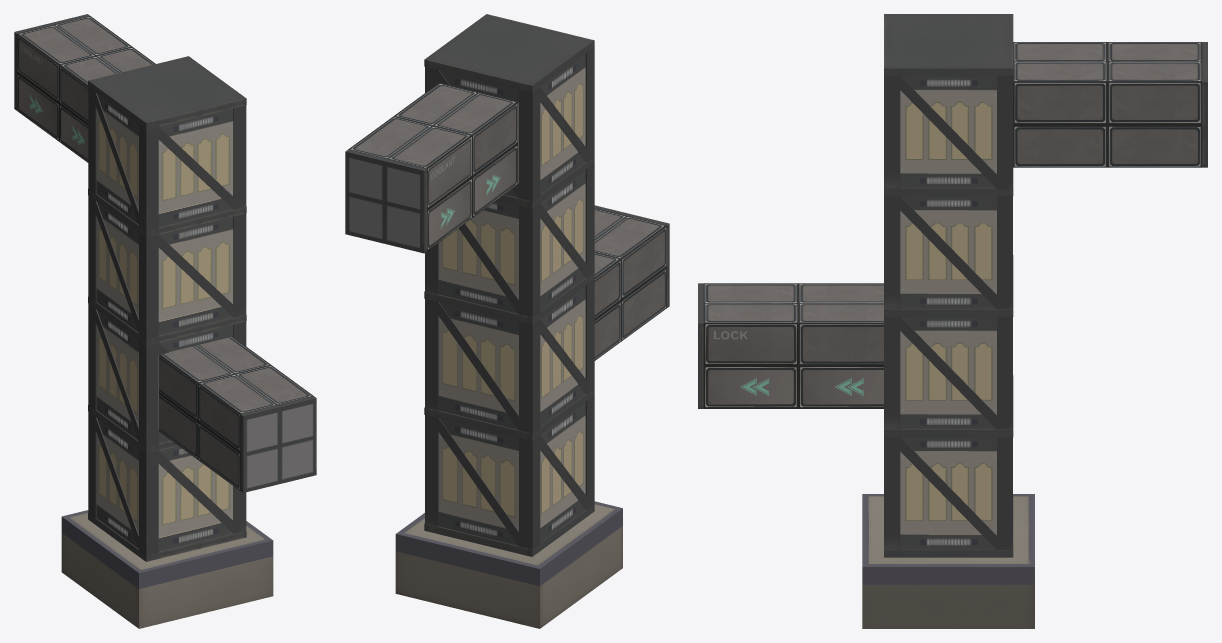
The model's file is Sci-Fi_Prefab_Var9.fbx.
The picture shows the model from 3 angles, left to right: view 1: azimuth 30°, elevation 25°; view 2: azimuth 150°, elevation 25°; view 3: azimuth 270°, elevation 25°; orthographic projection. The views are drawn at different scales.
Visible parts, largest first — view 1: ProjectRG_Environment_Sci-Fi_BaseFoundation_Small.003, ProjectRG_Environment_Sci-Fi_TowerTopBlockPiece_Var1.007, ProjectRG_Environment_Sci-Fi_TowerTopBlockPiece_Var1.006, ProjectRG_Environment_Sci-Fi_TowerTopBlockPiece_Var1.004, ProjectRG_Environment_Sci-Fi_TowerPanel_Var3_B.019, ProjectRG_Environment_Sci-Fi_TowerPanel_Var0_A.006, ProjectRG_Environment_Sci-Fi_FrameTower.019, ProjectRG_Environment_Sci-Fi_FrameTower.020, ProjectRG_Environment_Sci-Fi_FrameTower.017, ProjectRG_Environment_Sci-Fi_TowerTopBlockPiece_Var1.005, ProjectRG_Environment_Sci-Fi_FrameTower.018, ProjectRG_Environment_Sci-Fi_ModBlock_Long.036 (+16 smaller); view 2: ProjectRG_Environment_Sci-Fi_BaseFoundation_Small.003, ProjectRG_Environment_Sci-Fi_TowerTopBlockPiece_Var1.004, ProjectRG_Environment_Sci-Fi_TowerTopBlockPiece_Var1.005, ProjectRG_Environment_Sci-Fi_TowerTopBlockPiece_Var1.006, ProjectRG_Environment_Sci-Fi_TowerPanel_Var3_B.019, ProjectRG_Environment_Sci-Fi_TowerPanel_Var0_A.007, ProjectRG_Environment_Sci-Fi_FrameTower.017, ProjectRG_Environment_Sci-Fi_FrameTower.018, ProjectRG_Environment_Sci-Fi_FrameTower.019, ProjectRG_Environment_Sci-Fi_TowerTopBlockPiece_Var1.007, ProjectRG_Environment_Sci-Fi_FrameTower.020, ProjectRG_Environment_Sci-Fi_ModBlock_Long.035 (+15 smaller); view 3: ProjectRG_Environment_Sci-Fi_BaseFoundation_Small.003, ProjectRG_Environment_Sci-Fi_TowerTopBlockPiece_Var1.004, ProjectRG_Environment_Sci-Fi_TowerTopBlockPiece_Var1.006, ProjectRG_Environment_Sci-Fi_TowerTopBlockPiece_Var1.005, ProjectRG_Environment_Sci-Fi_TowerTopBlockPiece_Var1.007, ProjectRG_Environment_Sci-Fi_TowerPanel_Var3_B.019, ProjectRG_Environment_Sci-Fi_ModBlock_Long.028, ProjectRG_Environment_Sci-Fi_ModBlock_Long.034, ProjectRG_Environment_Sci-Fi_ModBlock_Long.033, ProjectRG_Environment_Sci-Fi_ModBlock_Long.027, ProjectRG_Environment_Sci-Fi_FrameTower.019, ProjectRG_Environment_Sci-Fi_FrameTower.018 (+16 smaller).
Boxes of the visible parts, bbox=[...] form: ProjectRG_Environment_Sci-Fi_BaseFoundation_Small.003: bbox=[61, 510, 273, 628]; ProjectRG_Environment_Sci-Fi_TowerTopBlockPiece_Var1.007: bbox=[96, 94, 233, 227]; ProjectRG_Environment_Sci-Fi_TowerTopBlockPiece_Var1.006: bbox=[96, 202, 233, 335]; ProjectRG_Environment_Sci-Fi_TowerTopBlockPiece_Var1.004: bbox=[96, 418, 233, 551]; ProjectRG_Environment_Sci-Fi_TowerPanel_Var3_B.019: bbox=[88, 56, 246, 129]; ProjectRG_Environment_Sci-Fi_TowerPanel_Var0_A.006: bbox=[240, 396, 316, 492]; ProjectRG_Environment_Sci-Fi_FrameTower.019: bbox=[88, 195, 246, 339]; ProjectRG_Environment_Sci-Fi_FrameTower.020: bbox=[88, 87, 246, 230]; ProjectRG_Environment_Sci-Fi_FrameTower.017: bbox=[88, 412, 246, 555]; ProjectRG_Environment_Sci-Fi_TowerTopBlockPiece_Var1.005: bbox=[96, 310, 233, 443]; ProjectRG_Environment_Sci-Fi_FrameTower.018: bbox=[88, 304, 246, 447]; ProjectRG_Environment_Sci-Fi_ModBlock_Long.036: bbox=[16, 25, 95, 102]; ProjectRG_Environment_Sci-Fi_BaseFoundation_Small.003: bbox=[395, 501, 622, 628]; ProjectRG_Environment_Sci-Fi_TowerTopBlockPiece_Var1.004: bbox=[438, 402, 585, 545]; ProjectRG_Environment_Sci-Fi_TowerTopBlockPiece_Var1.005: bbox=[438, 286, 585, 429]; ProjectRG_Environment_Sci-Fi_TowerTopBlockPiece_Var1.006: bbox=[438, 170, 585, 313]; ProjectRG_Environment_Sci-Fi_TowerPanel_Var3_B.019: bbox=[424, 14, 594, 92]; ProjectRG_Environment_Sci-Fi_TowerPanel_Var0_A.007: bbox=[345, 149, 426, 253]; ProjectRG_Environment_Sci-Fi_FrameTower.017: bbox=[425, 395, 594, 549]; ProjectRG_Environment_Sci-Fi_FrameTower.018: bbox=[425, 279, 594, 433]; ProjectRG_Environment_Sci-Fi_FrameTower.019: bbox=[425, 163, 594, 317]; ProjectRG_Environment_Sci-Fi_TowerTopBlockPiece_Var1.007: bbox=[439, 54, 585, 197]; ProjectRG_Environment_Sci-Fi_FrameTower.020: bbox=[425, 47, 594, 201]; ProjectRG_Environment_Sci-Fi_ModBlock_Long.035: bbox=[433, 92, 517, 176]; ProjectRG_Environment_Sci-Fi_BaseFoundation_Small.003: bbox=[862, 494, 1034, 628]; ProjectRG_Environment_Sci-Fi_TowerTopBlockPiece_Var1.004: bbox=[900, 437, 996, 549]; ProjectRG_Environment_Sci-Fi_TowerTopBlockPiece_Var1.006: bbox=[900, 196, 996, 308]; ProjectRG_Environment_Sci-Fi_TowerTopBlockPiece_Var1.005: bbox=[900, 317, 996, 429]; ProjectRG_Environment_Sci-Fi_TowerTopBlockPiece_Var1.007: bbox=[900, 76, 996, 188]; ProjectRG_Environment_Sci-Fi_TowerPanel_Var3_B.019: bbox=[884, 14, 1013, 75]; ProjectRG_Environment_Sci-Fi_ModBlock_Long.028: bbox=[703, 303, 798, 366]; ProjectRG_Environment_Sci-Fi_ModBlock_Long.034: bbox=[1107, 62, 1202, 124]; ProjectRG_Environment_Sci-Fi_ModBlock_Long.033: bbox=[1013, 62, 1107, 124]; ProjectRG_Environment_Sci-Fi_ModBlock_Long.027: bbox=[798, 303, 883, 366]; ProjectRG_Environment_Sci-Fi_FrameTower.019: bbox=[884, 196, 1012, 309]; ProjectRG_Environment_Sci-Fi_FrameTower.018: bbox=[884, 317, 1012, 429].
Size of the model in its own units: 1259 by 4434 by 3718.
